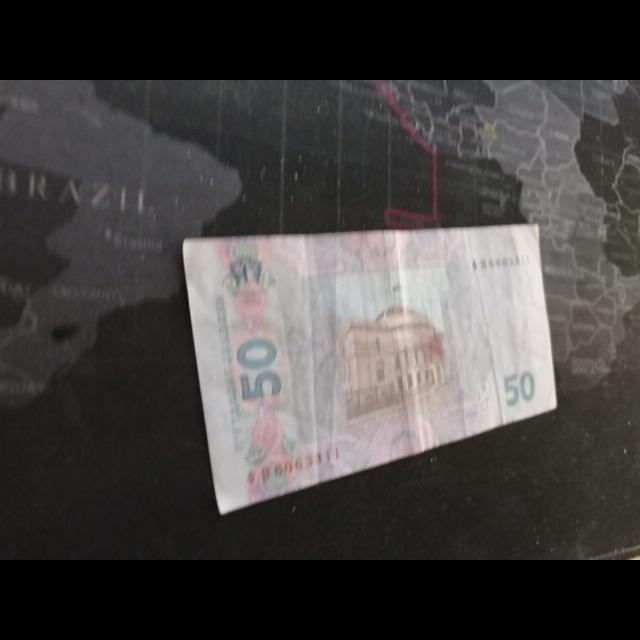50uah: (183, 222, 558, 515)
